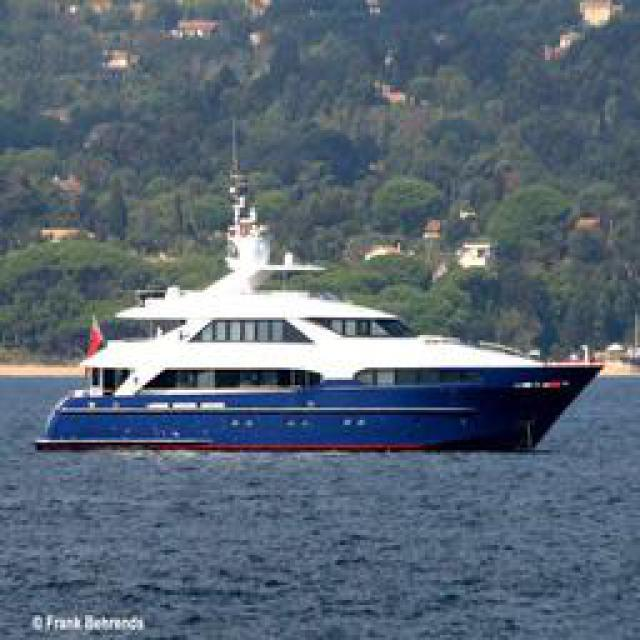Ship: (61, 265, 609, 455)
